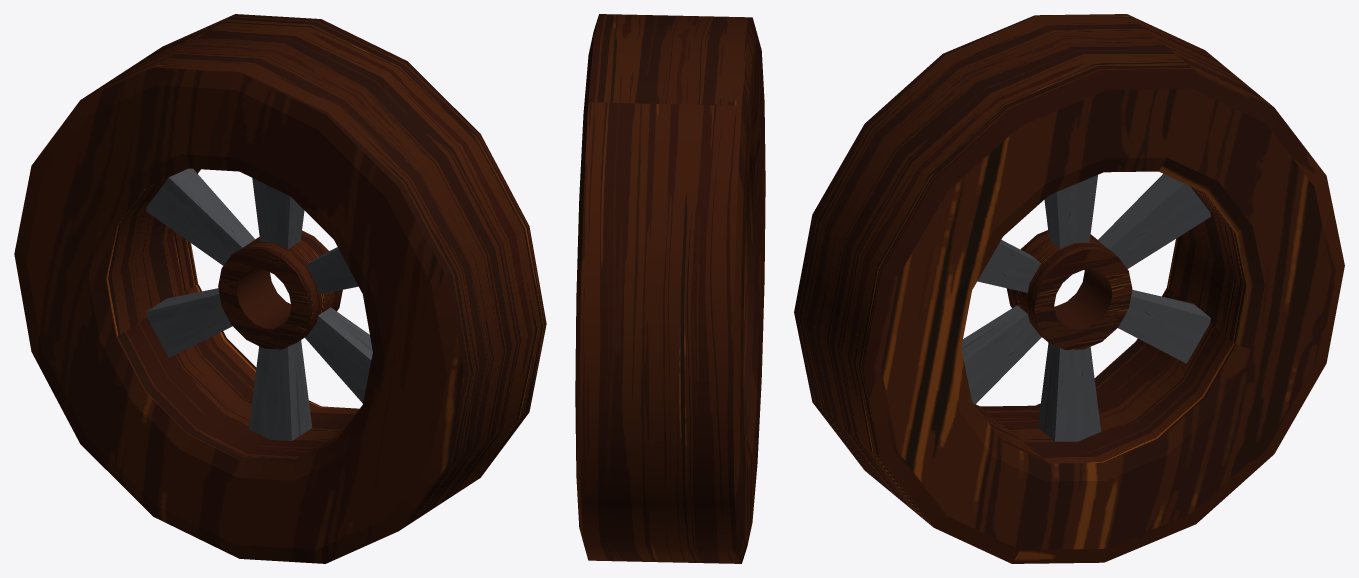
Rendered from rueda_grande.glb.
3 renders of one model, left to right at view 1: azimuth 30°, elevation 25°; view 2: azimuth 150°, elevation 25°; view 3: azimuth 270°, elevation 25°, orthographic.
Parts seen in each view (by area): view 1: Rueda Grande, Radio, Rueda Pequeña; view 2: Rueda Grande; view 3: Rueda Grande, Radio, Rueda Pequeña.
Part boxes in pixels (x1,y1,x2,y2): Rueda Grande: (14, 14, 546, 563); Radio: (146, 168, 372, 440); Rueda Pequeña: (218, 230, 342, 349); Rueda Grande: (575, 14, 765, 563); Rueda Grande: (794, 14, 1344, 563); Radio: (961, 173, 1210, 441); Rueda Pequeña: (1006, 230, 1132, 349).
Bounding box in the file's own units: 1.41 × 2 × 2.04.
3 materials, 3 textured.
